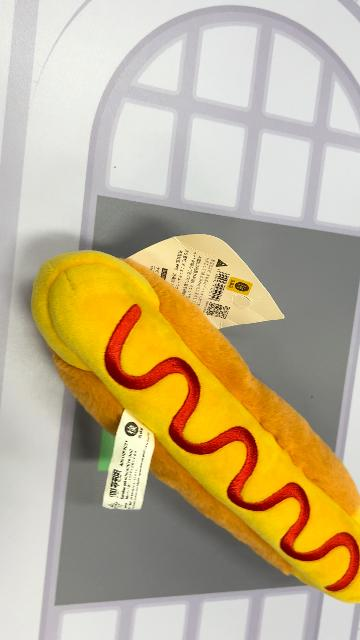hotdog: (31, 248, 359, 604)
